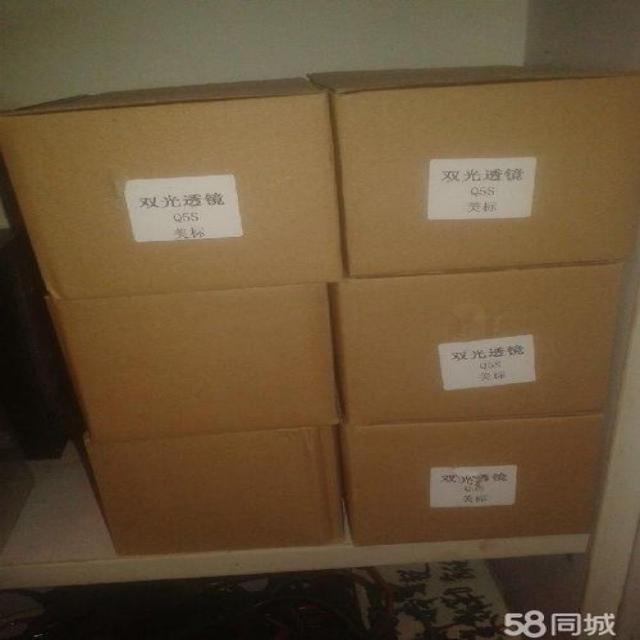box: (0, 78, 346, 298), (307, 66, 639, 277), (45, 281, 344, 444), (331, 261, 626, 424), (337, 414, 604, 546), (82, 424, 347, 556)
